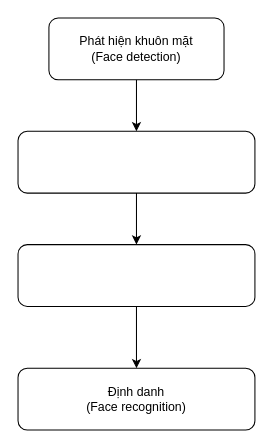
Image size: 273x448. Some labels were removed from this diagram. The centre of each missing label's shape, as x and y in pixels:
Tìm vector đặc trưng 128 chiều (Embedding image): pixel 136 275
Tìm điểm gốc đặc trưng và cân chỉnh ảnh (Facial landmark & alignment): pixel 136 161
